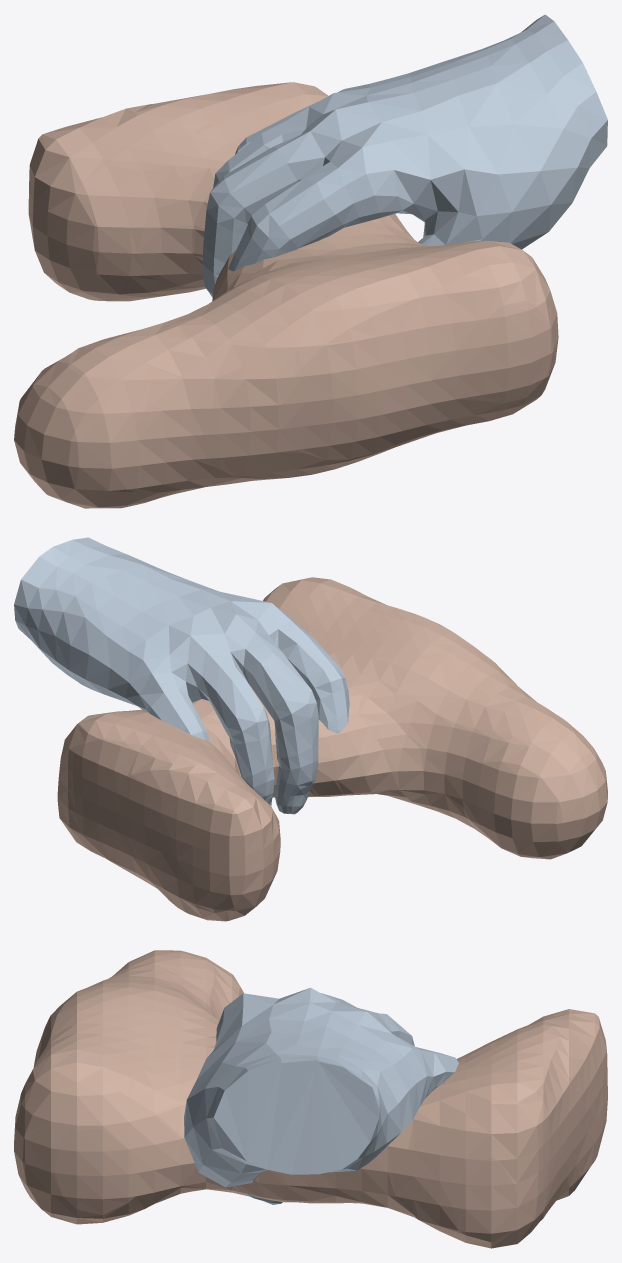
3 views of the same model, one above another, from view 1: azimuth 30°, elevation 25°; view 2: azimuth 150°, elevation 25°; view 3: azimuth 270°, elevation 25° (orthographic). The views are drawn at different scales.
Visible parts, largest first — view 1: world; view 2: world; view 3: world.
Boxes of the visible parts, x1,y1,x2,y2 form: world: (14,14,607,508); world: (14,537,607,921); world: (14,950,607,1248).
Bounding box in the file's own units: 1.27 × 0.5783 × 1.09.
